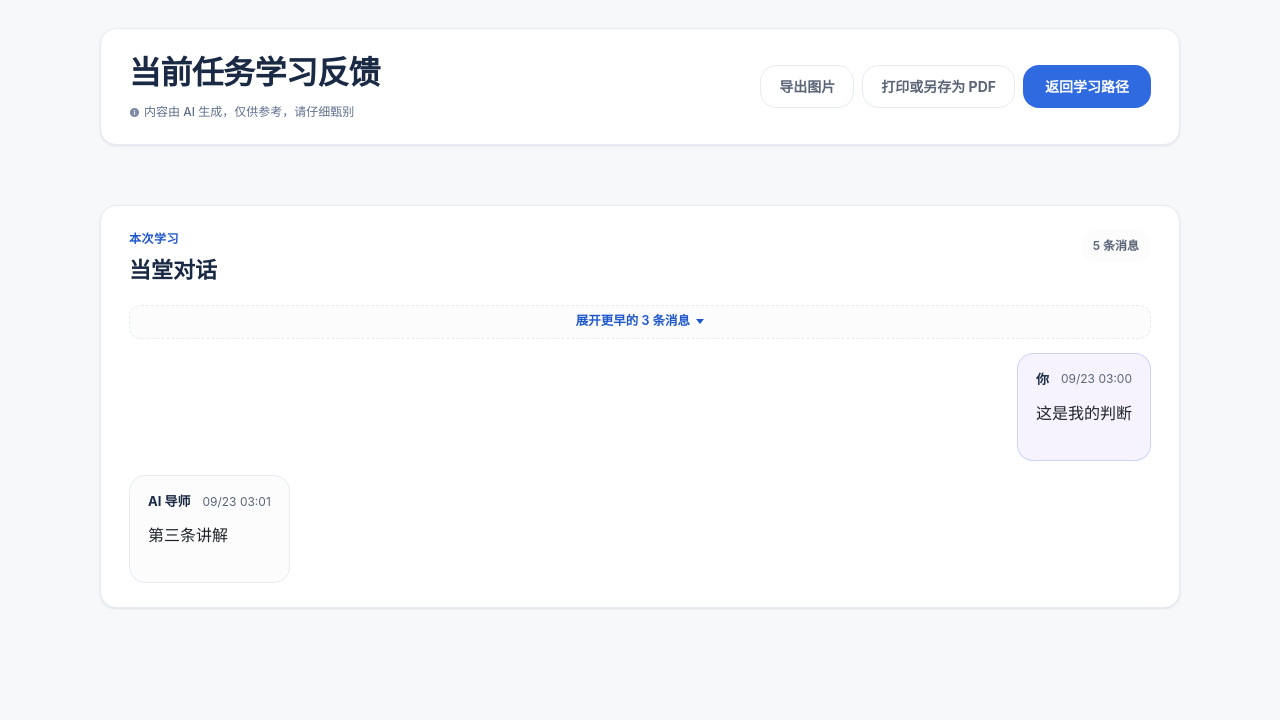
LearningEvaluationPage 当堂对话折叠 › 点击后在展开/收起之间切换，消息条数随之变化
The image size is (1280, 720).
Click the button with class "evaluation-transcript-toggle" at (640, 322), box [129,304,1151,338]
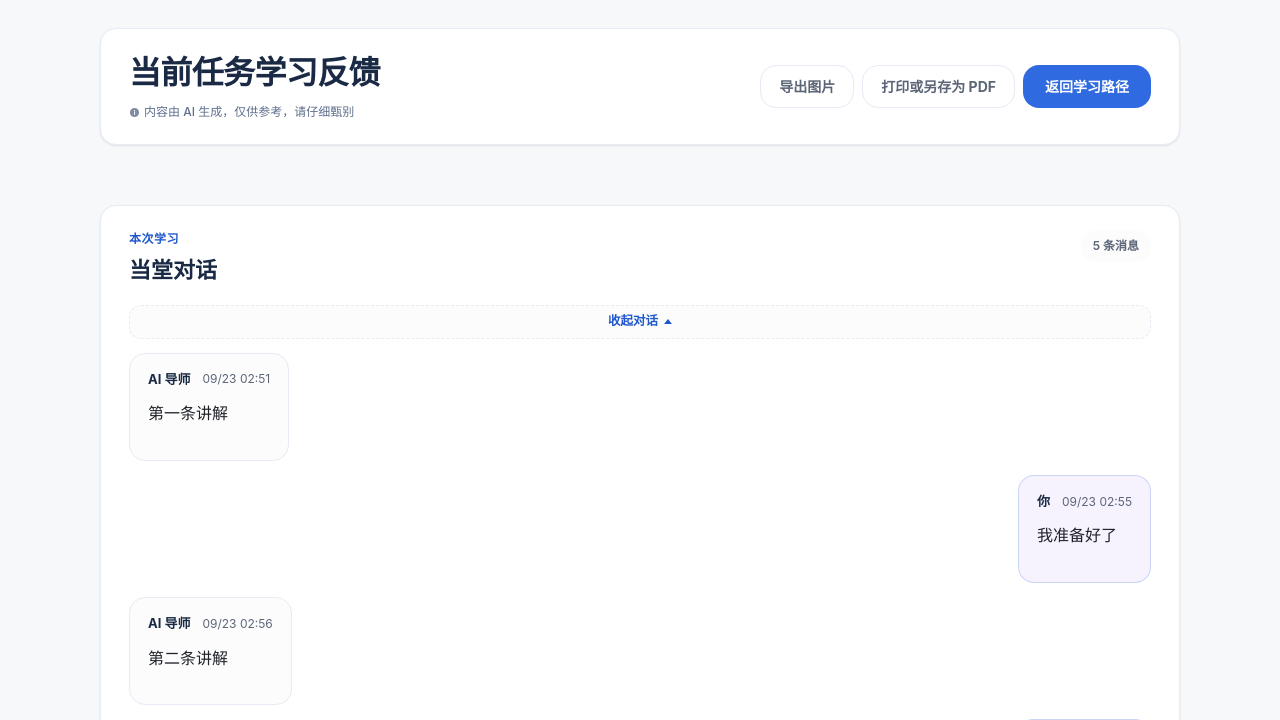
expect the number of elements with class "evaluation-transcript-item" is 5: met
expect the button with class "evaluation-transcript-toggle" reads "收起对话": met
expect the button with class "evaluation-transcript-toggle" is expanded: met
Click the button with class "evaluation-transcript-toggle" at (640, 322), box [129,304,1151,338]
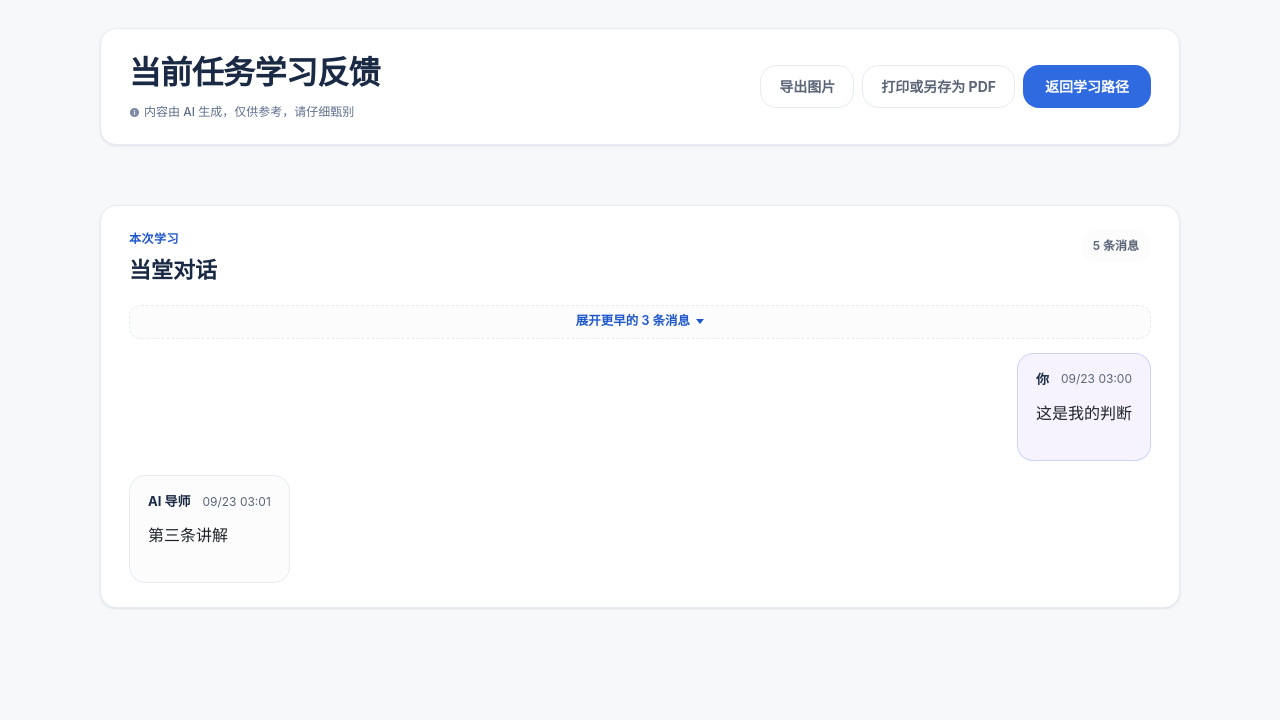
expect the number of elements with class "evaluation-transcript-item" is 2: met, box [1017,352,1151,461]; [129,475,290,583]
expect the button with class "evaluation-transcript-toggle" reads "展开更早的 3 条消息": met, box [129,304,1151,338]
